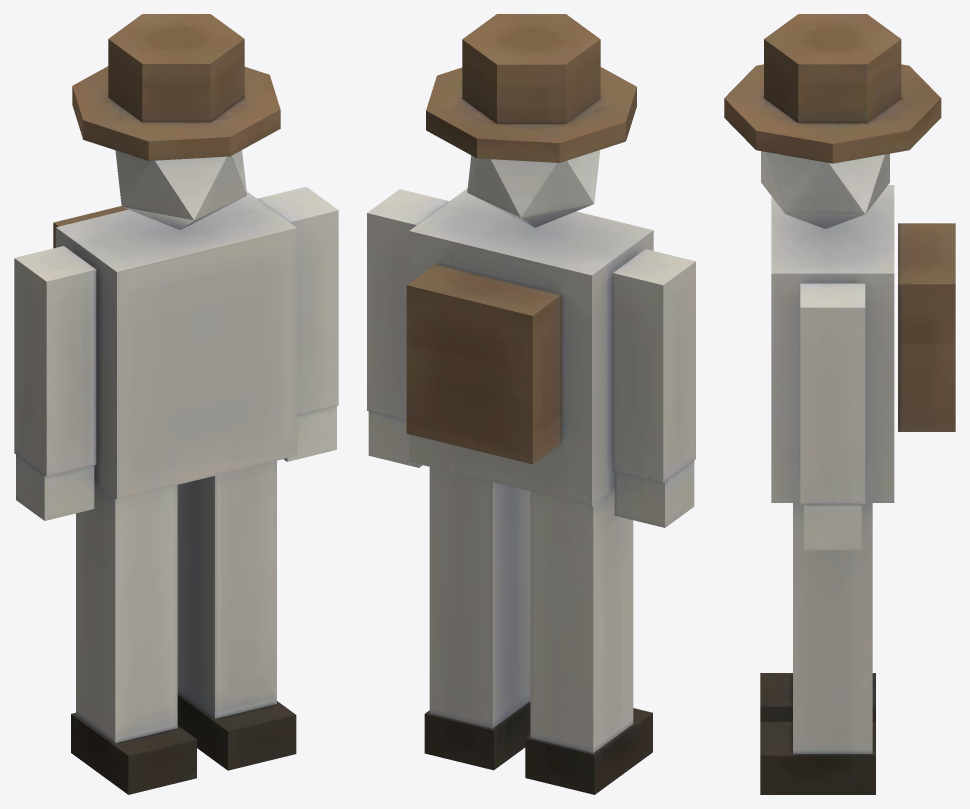
The model's file is life-survivor.glb.
The picture shows the model from 3 angles, left to right: view 1: azimuth 30°, elevation 25°; view 2: azimuth 150°, elevation 25°; view 3: azimuth 270°, elevation 25°; orthographic projection.
Parts seen in each view (by area): view 1: life-survivor; view 2: life-survivor; view 3: life-survivor.
Part boxes in pixels (box(x1,y1,x2,y2)): life-survivor: box(14, 14, 338, 794); life-survivor: box(367, 14, 695, 794); life-survivor: box(724, 14, 955, 794).
Bounding box in the file's own units: 0.094 × 0.218 × 0.064.
1 material, 1 textured.
